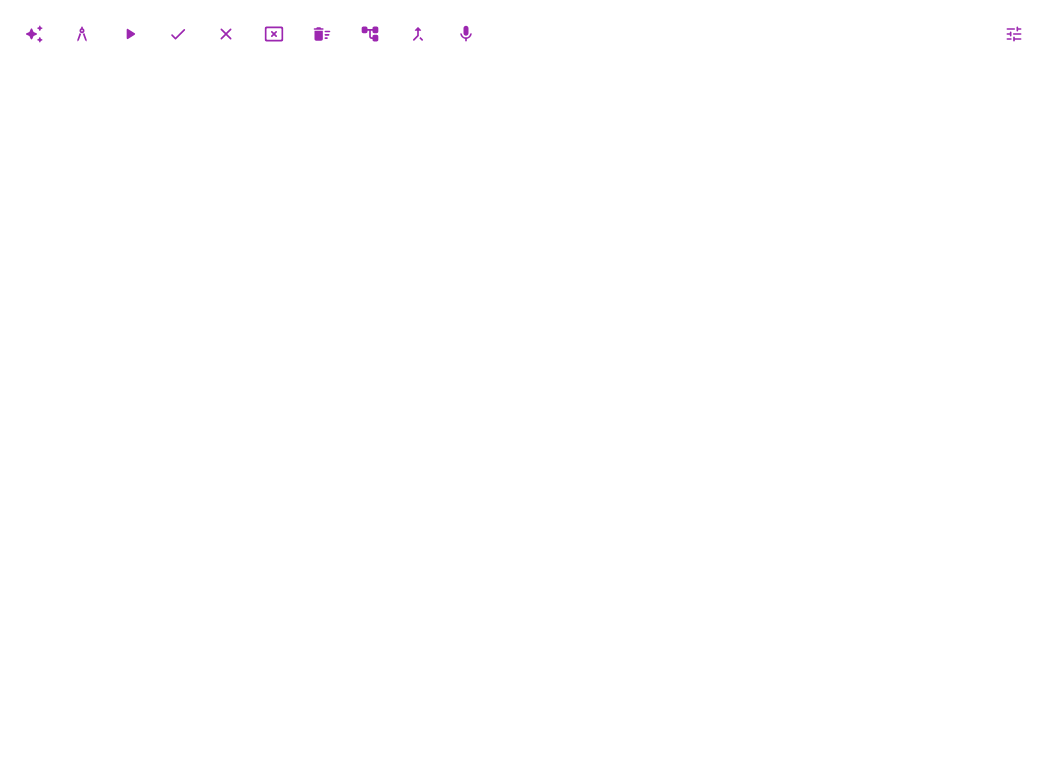
Test: SessionQuickActionsBar › removes an action via the customize popover and persists the preference
Step 1. Click the button named "Customize quick actions" → [1014, 34], box x1=992 y1=12 x2=1036 y2=56
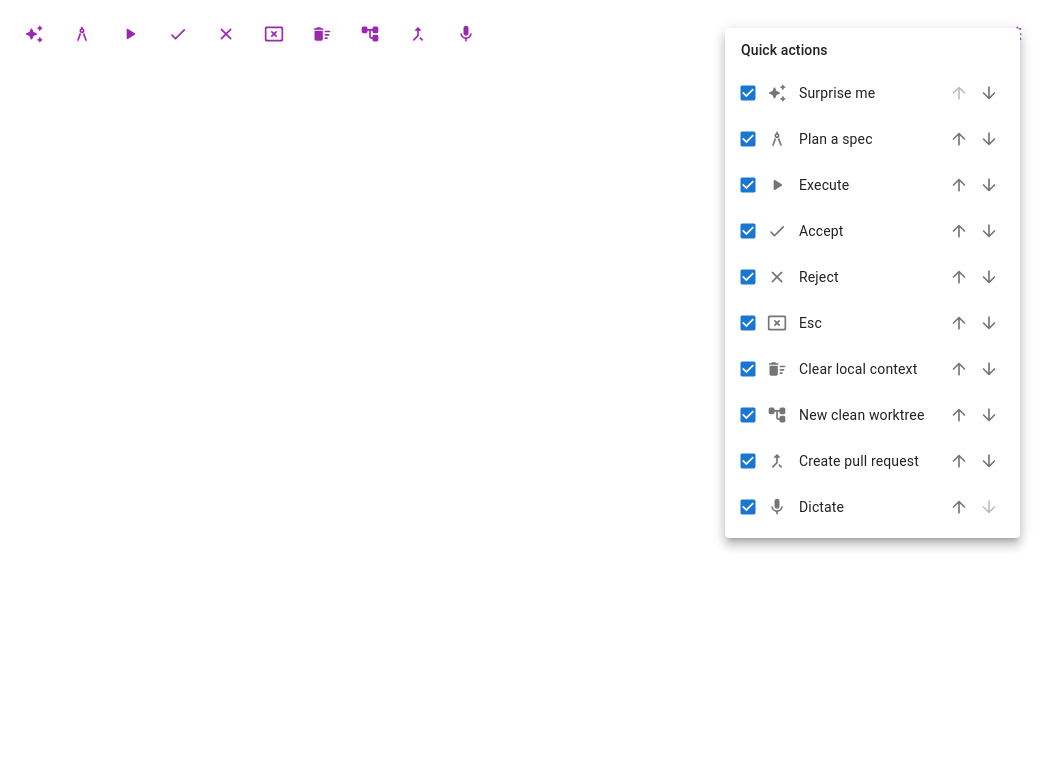
Step 2. Click the checkbox named "Show Execute" → [748, 185], box x1=738 y1=175 x2=758 y2=195
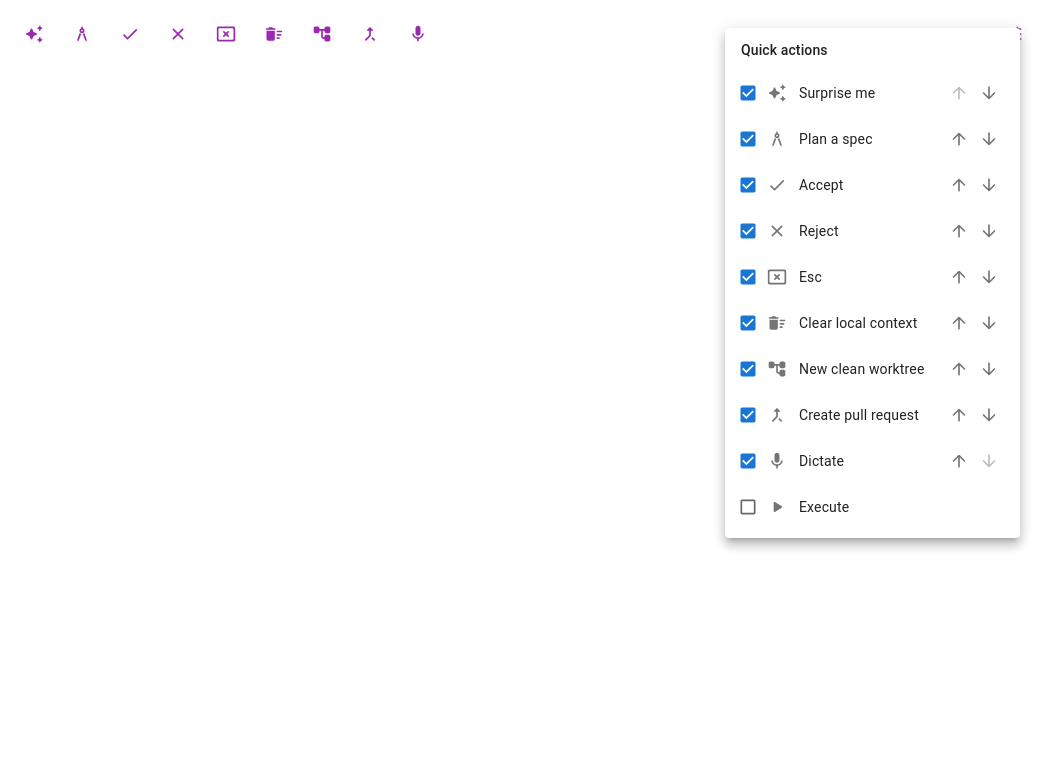
Note: Close the popover — its modal hides the toolbar from queries while open.
Step 3. Press Escape in the checkbox named "Show Execute", box x1=738 y1=497 x2=758 y2=517
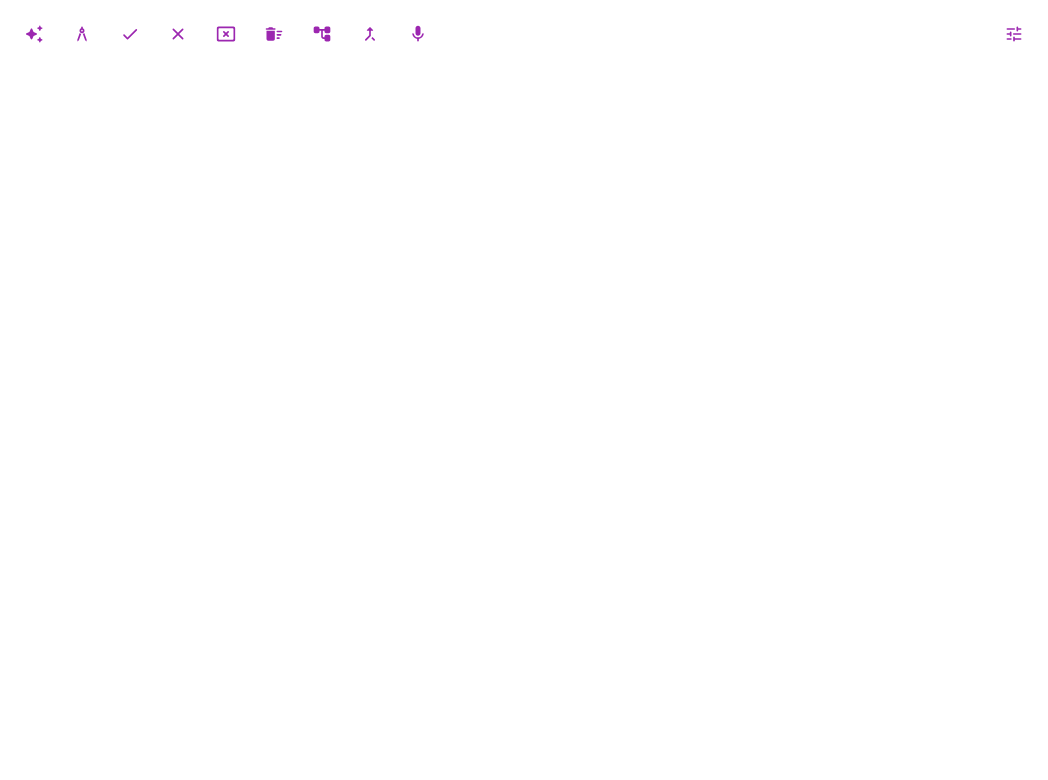
Result: the text "Execute" is gone
